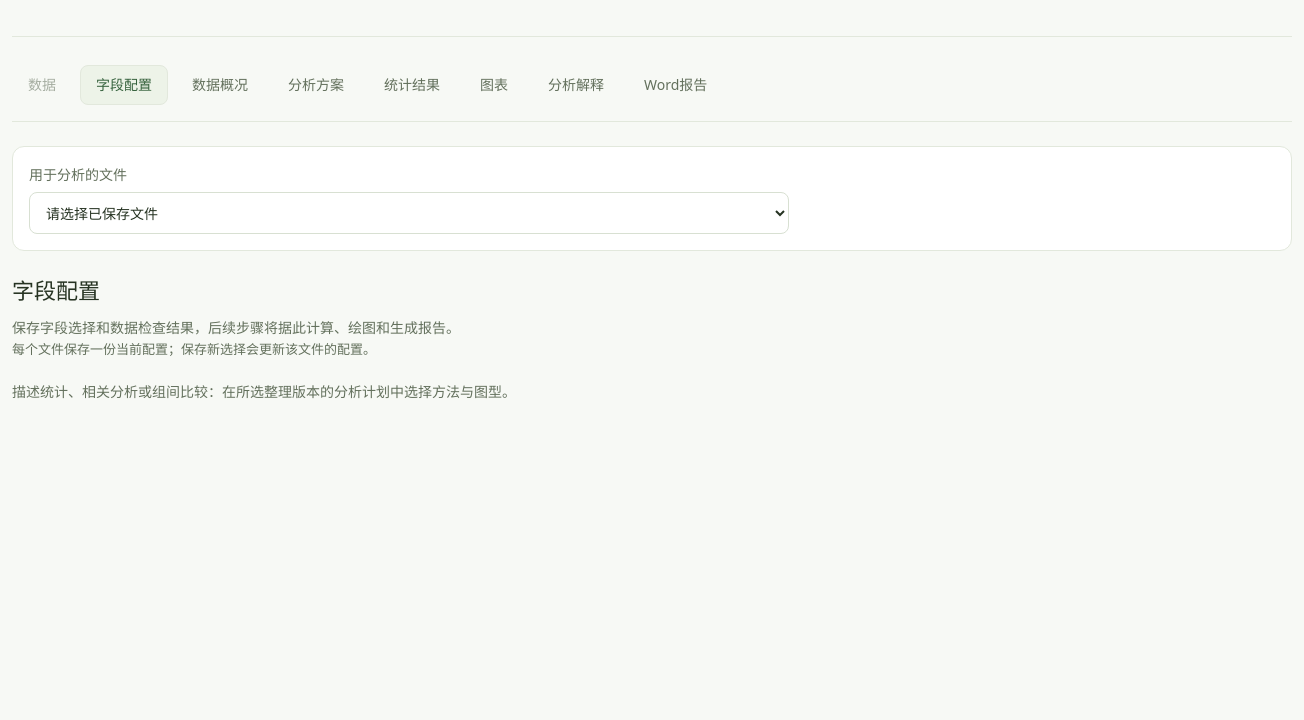
Test: configuration conflict tells the user to reload instead of claiming a result
Select "研究.xlsx · 2026/9/29 01:00:00" in the dropdown labelled "用于分析的文件" at {"x": 409, "y": 213}, box top-left (29, 192), bottom-right (789, 234)
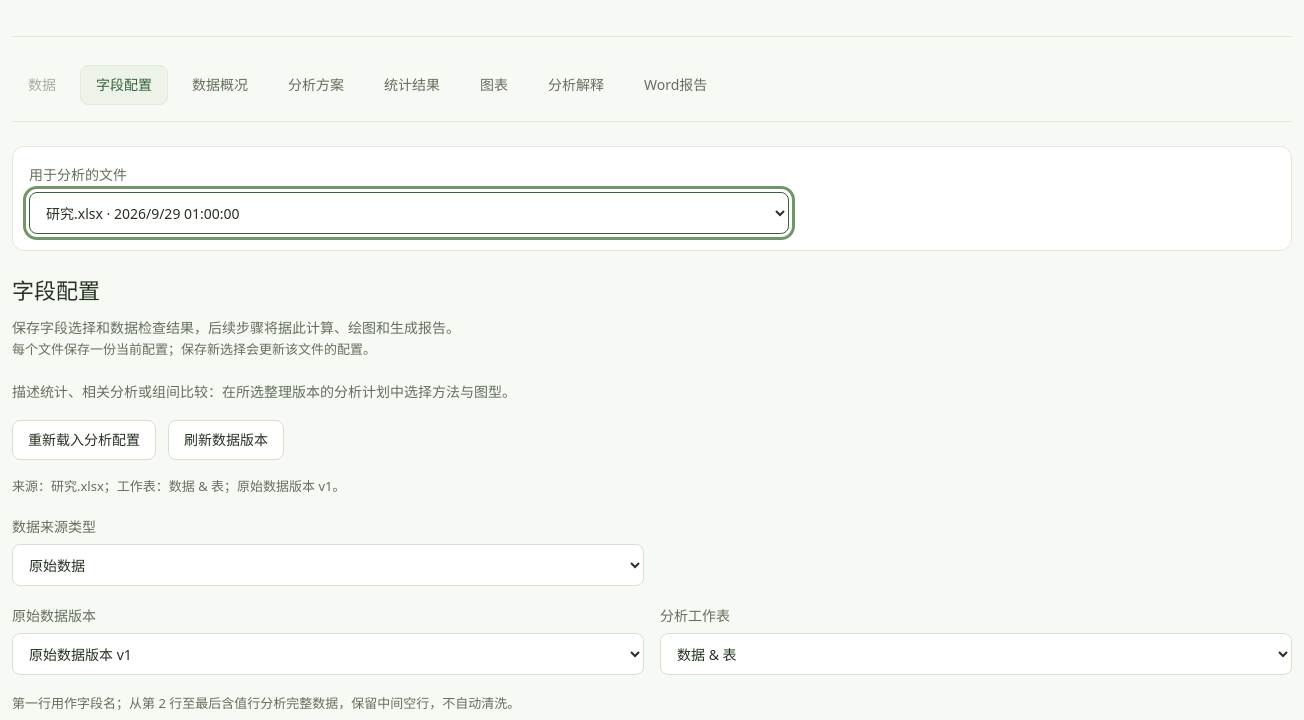
Click the button "统计结果" at {"x": 412, "y": 85}, box top-left (368, 65), bottom-right (456, 105)
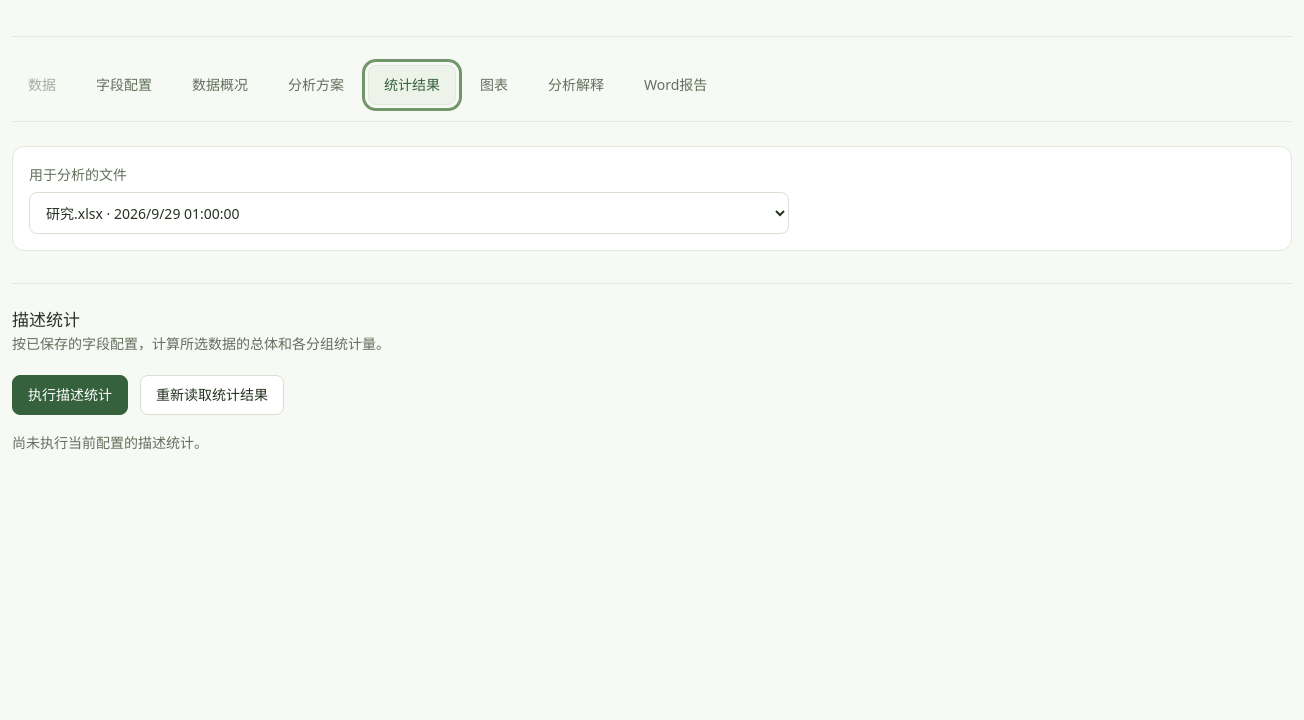
Click the button "执行描述统计" at {"x": 70, "y": 395}, box top-left (12, 375), bottom-right (128, 415)
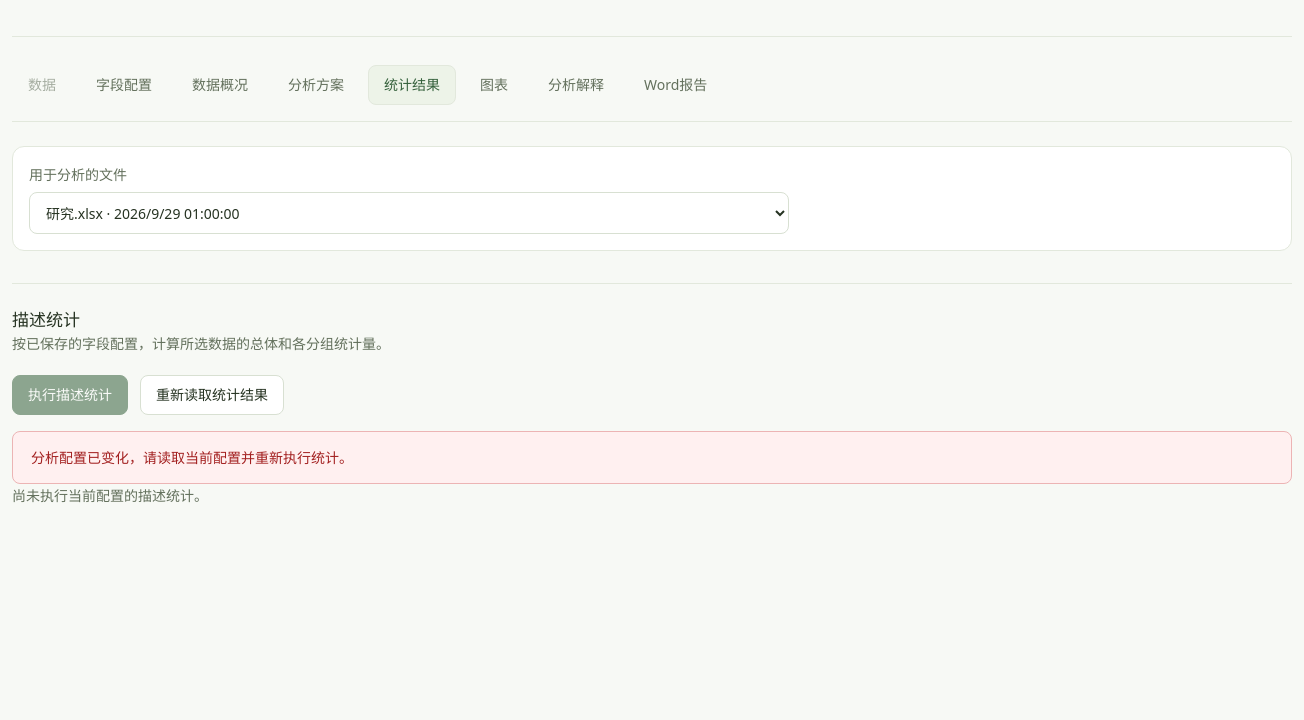
Expected: the message shows "读取当前配置", top-left (31, 448), bottom-right (353, 467)
